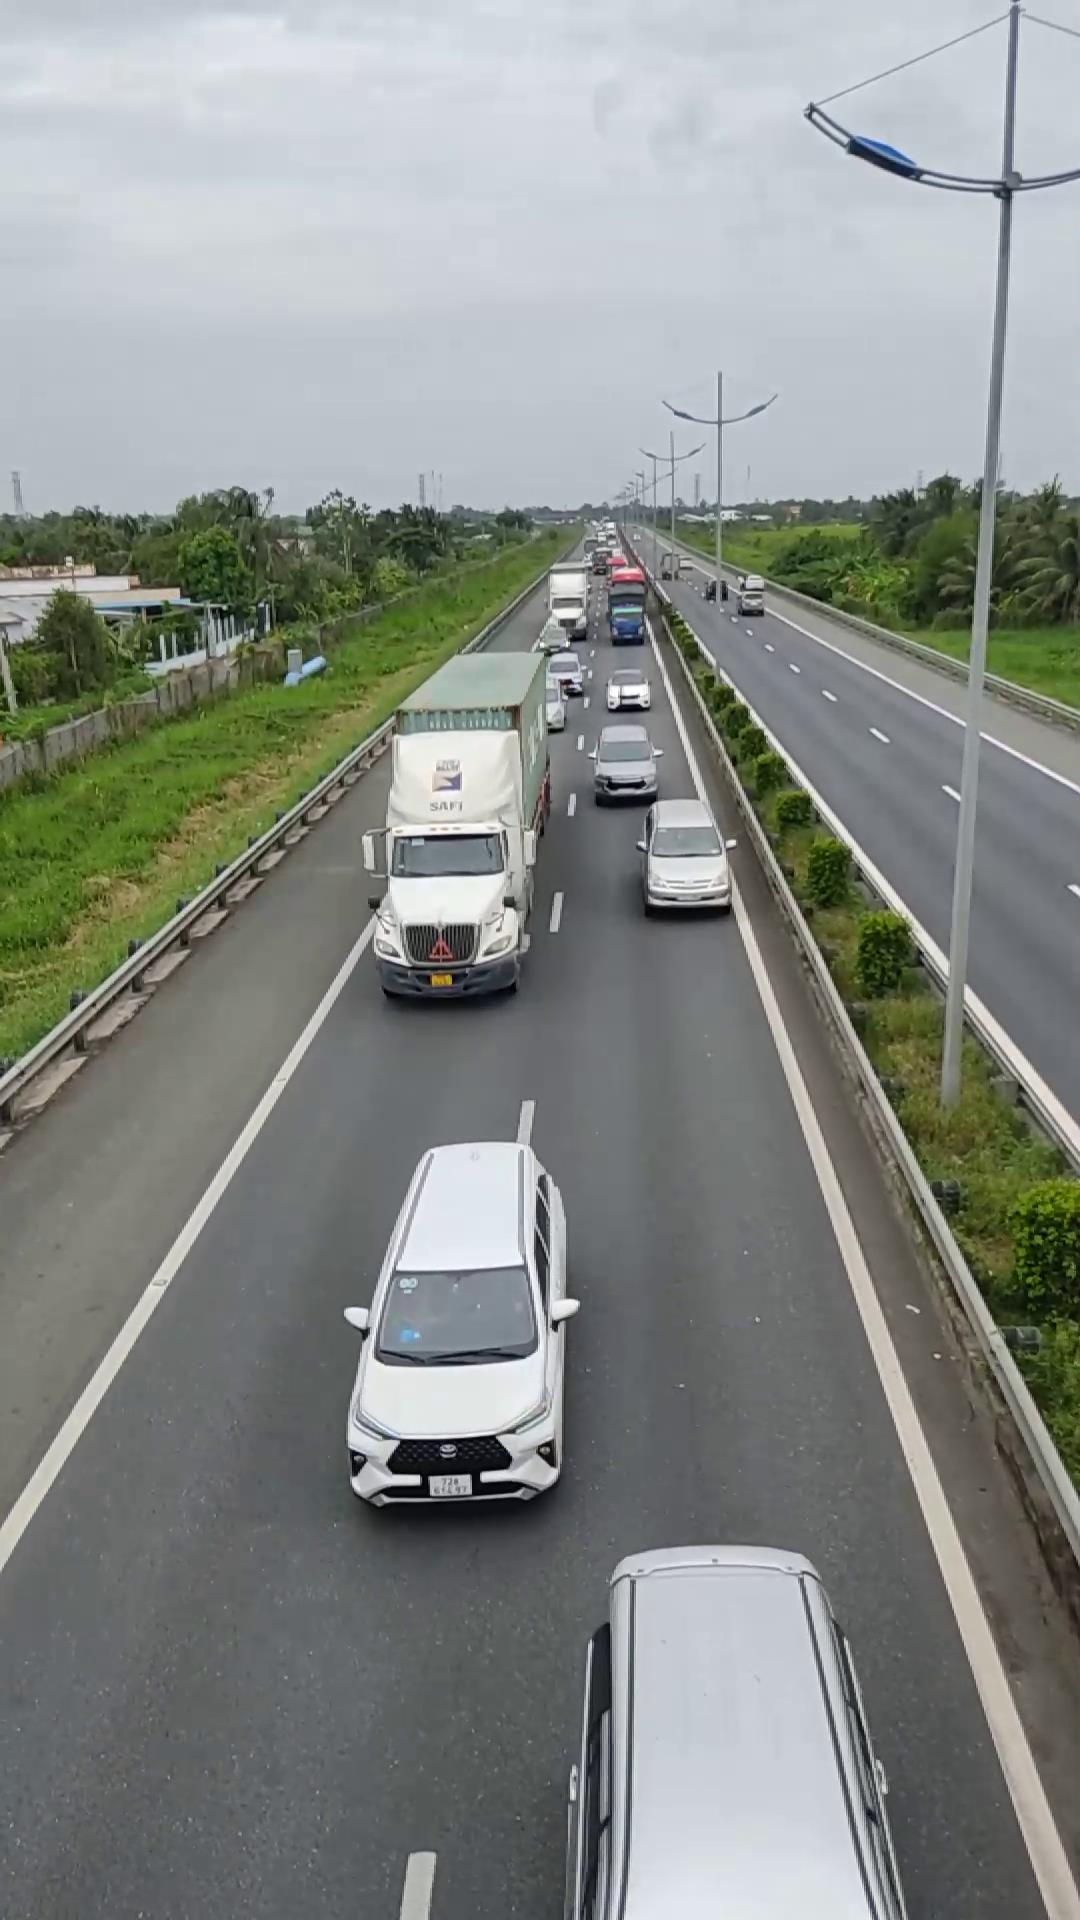car: (560, 1544, 902, 1917), (342, 1138, 580, 1511), (636, 796, 735, 916), (587, 724, 659, 803)
container: (368, 645, 553, 1001)
